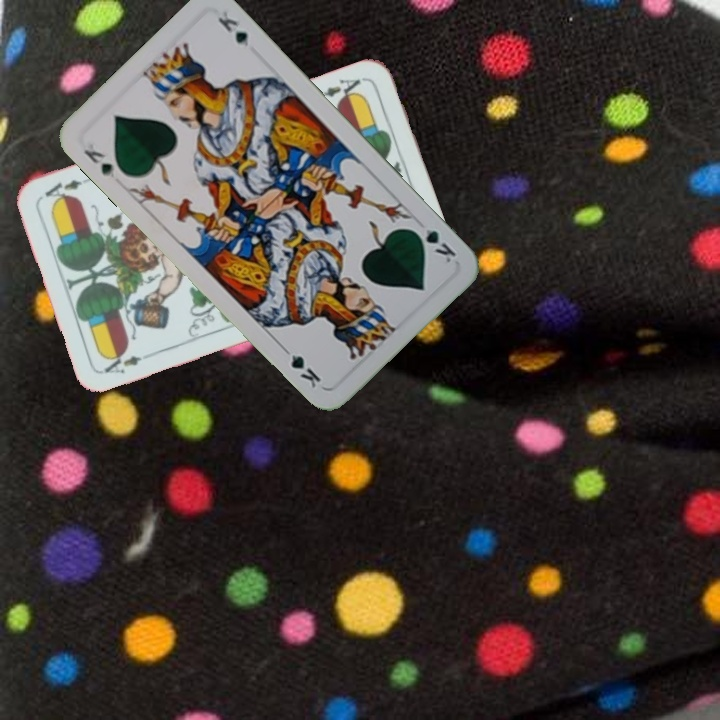EA: (311, 73, 368, 104), (100, 347, 144, 377)
GK: (408, 224, 459, 266), (79, 139, 118, 181)
